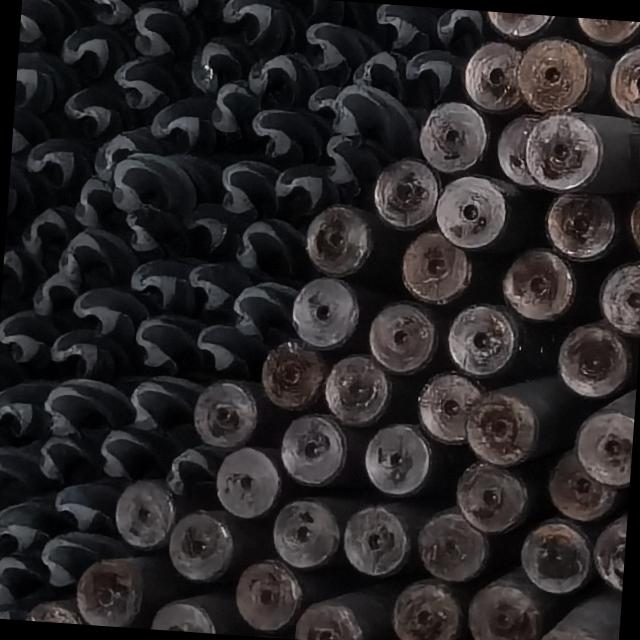tool: (544, 314, 638, 400), (515, 34, 613, 116), (446, 300, 532, 378), (525, 113, 605, 196), (541, 446, 621, 527), (467, 561, 547, 640), (391, 228, 472, 306), (514, 517, 592, 597), (575, 384, 636, 486), (436, 174, 512, 253), (416, 503, 491, 581), (378, 573, 465, 640), (501, 246, 578, 321), (290, 277, 364, 354), (232, 556, 305, 634), (363, 420, 436, 498), (280, 410, 352, 488), (413, 365, 485, 443), (542, 191, 618, 264), (319, 353, 392, 428), (454, 460, 530, 532), (72, 556, 147, 628), (367, 300, 438, 376), (304, 202, 376, 276), (492, 115, 564, 189), (416, 97, 486, 173), (269, 494, 340, 568), (213, 444, 283, 519), (374, 158, 442, 235), (256, 334, 324, 411), (190, 376, 260, 448), (168, 510, 236, 584), (341, 508, 410, 576), (468, 399, 536, 467), (462, 41, 524, 115), (112, 474, 172, 548), (597, 259, 640, 336), (590, 508, 628, 592), (293, 599, 368, 640), (152, 600, 218, 634), (10, 594, 84, 624), (486, 12, 559, 40), (610, 38, 640, 105), (569, 17, 640, 45), (535, 627, 613, 640), (627, 189, 640, 253)
tool_b: (45, 376, 136, 440), (162, 258, 250, 320), (49, 225, 134, 286), (226, 213, 308, 276), (128, 377, 206, 442), (248, 108, 330, 167), (230, 277, 300, 345), (149, 91, 222, 156), (72, 286, 152, 345), (47, 326, 131, 382), (61, 82, 137, 143), (396, 46, 468, 110), (130, 312, 202, 376), (113, 53, 192, 111), (216, 0, 304, 52), (25, 132, 98, 194), (14, 49, 81, 114), (246, 49, 321, 107), (190, 320, 264, 378), (59, 23, 130, 82), (270, 162, 340, 220), (186, 36, 253, 96), (36, 528, 100, 590), (90, 429, 163, 483), (216, 160, 278, 222), (122, 202, 190, 258), (362, 2, 438, 52), (0, 305, 56, 372), (130, 0, 192, 60), (26, 433, 96, 485), (51, 478, 119, 530), (173, 198, 230, 260), (209, 81, 261, 148), (12, 203, 73, 260), (0, 496, 58, 555), (0, 377, 51, 442), (164, 446, 221, 502), (18, 0, 78, 50), (299, 18, 349, 78), (91, 126, 147, 178), (109, 160, 165, 212), (0, 538, 43, 605), (317, 80, 368, 136), (429, 7, 491, 51), (0, 244, 38, 313), (129, 259, 180, 310), (26, 270, 80, 318), (66, 173, 114, 226), (0, 444, 34, 509), (320, 138, 363, 186), (6, 152, 35, 222), (11, 104, 51, 154), (352, 49, 394, 90), (272, 0, 343, 21), (82, 0, 132, 24), (160, 0, 212, 13)
